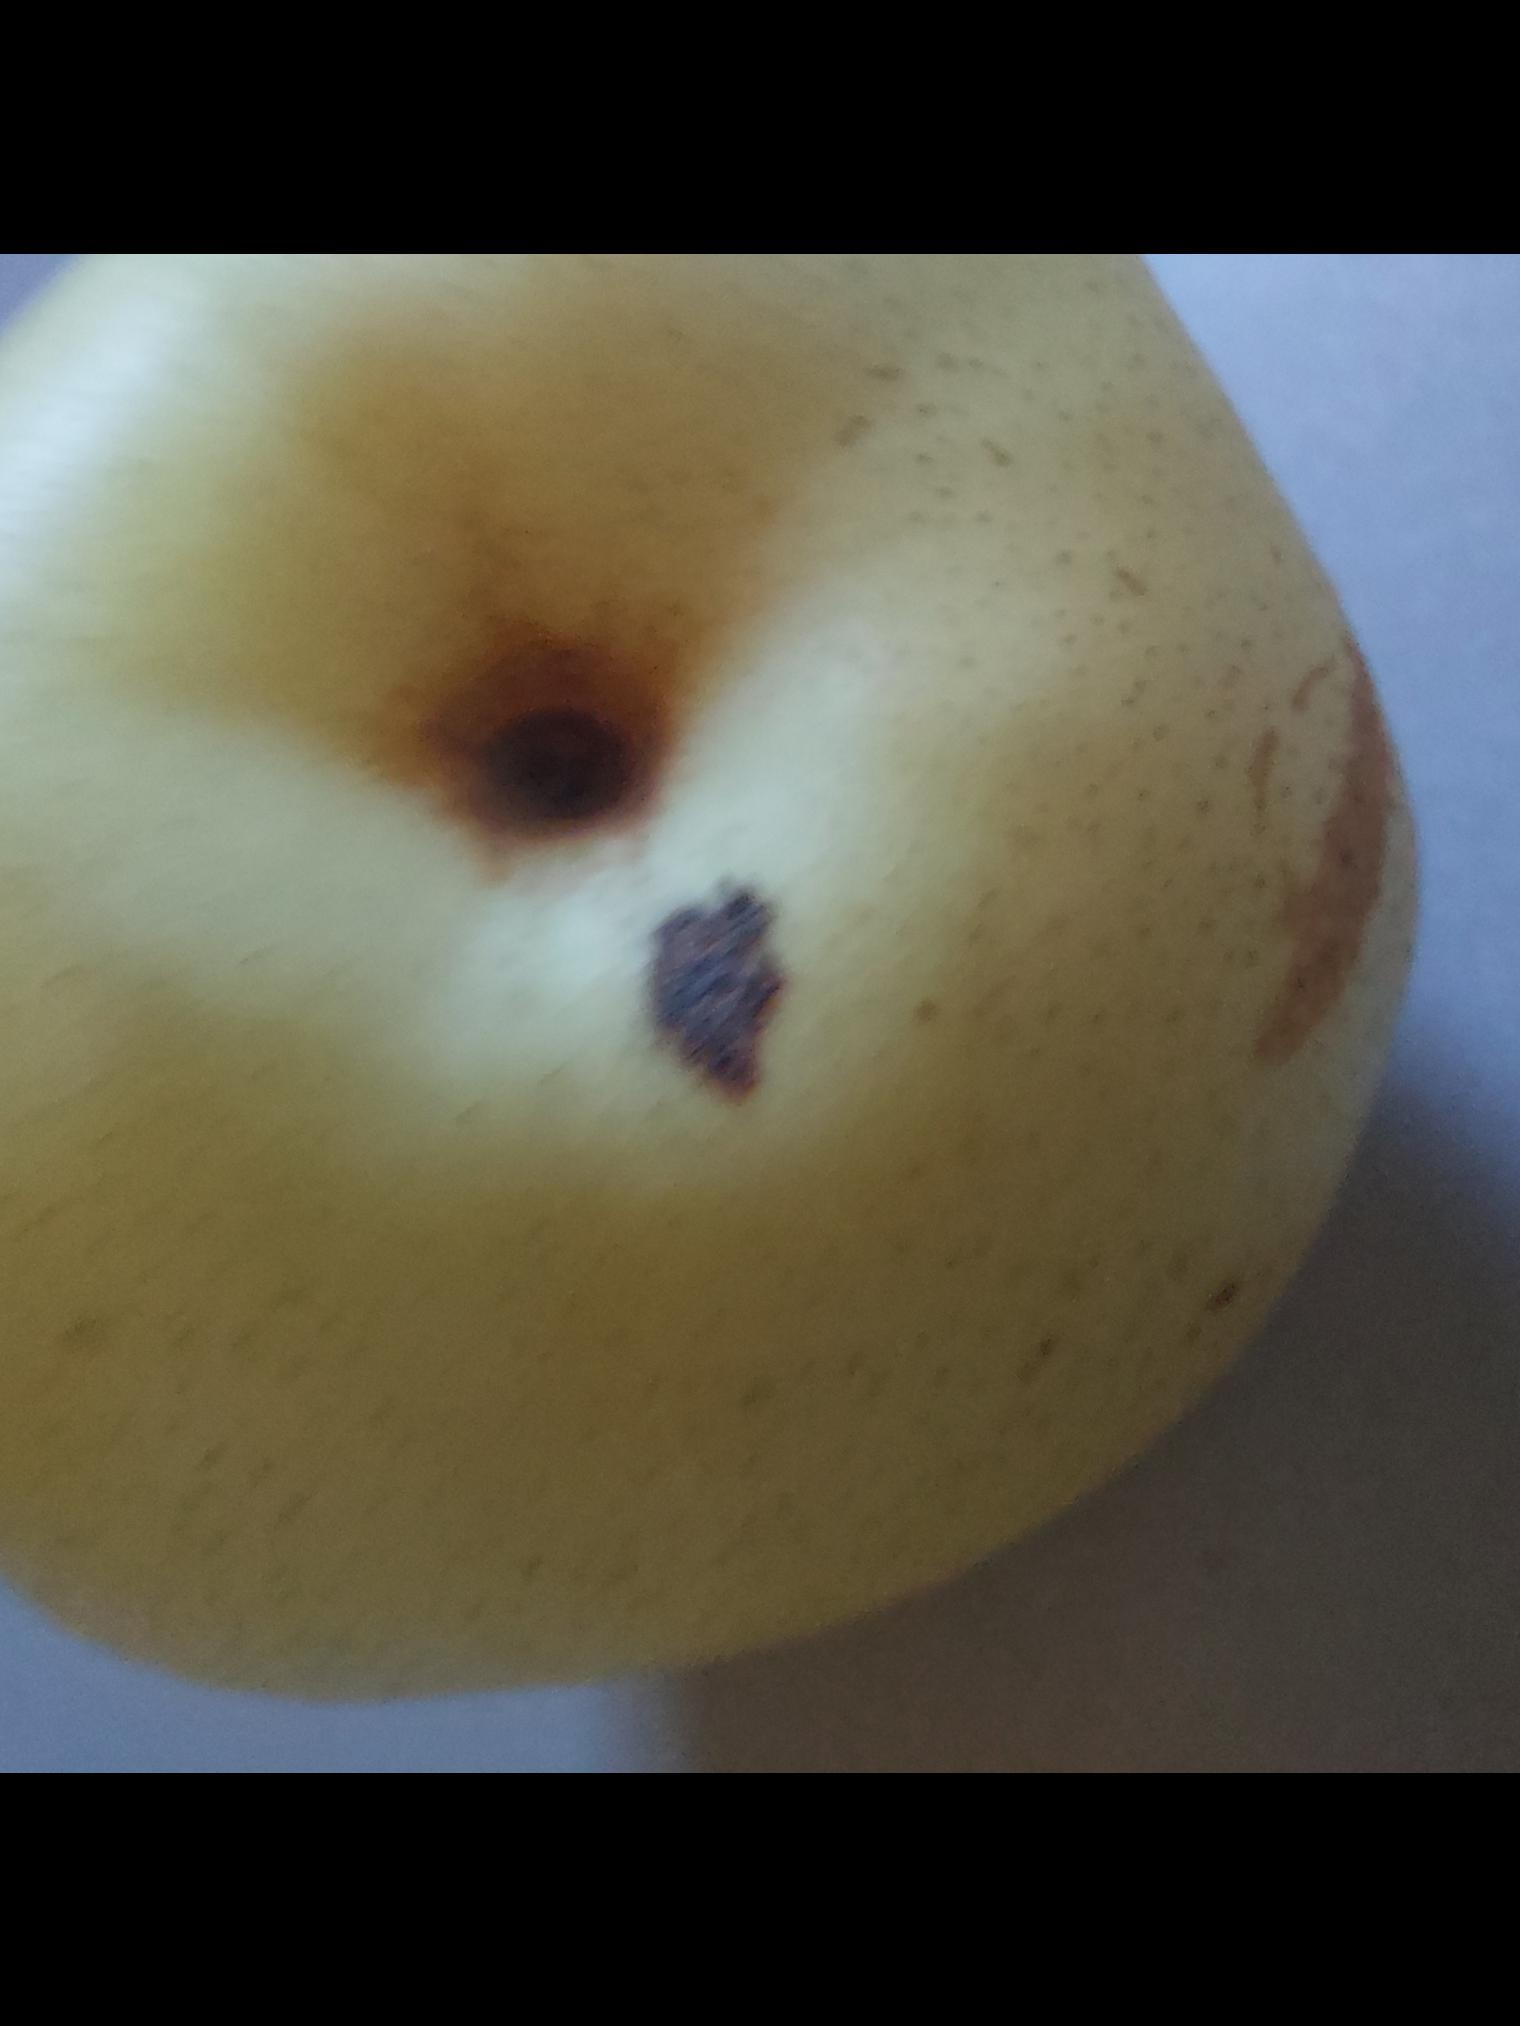Good Pear: (0, 252, 1506, 1774)
